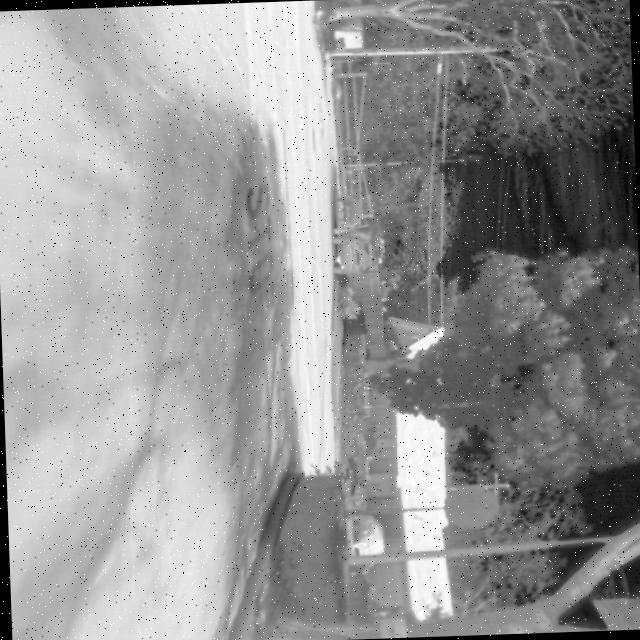Vehicle: (328, 225, 374, 278), (348, 512, 386, 558)
